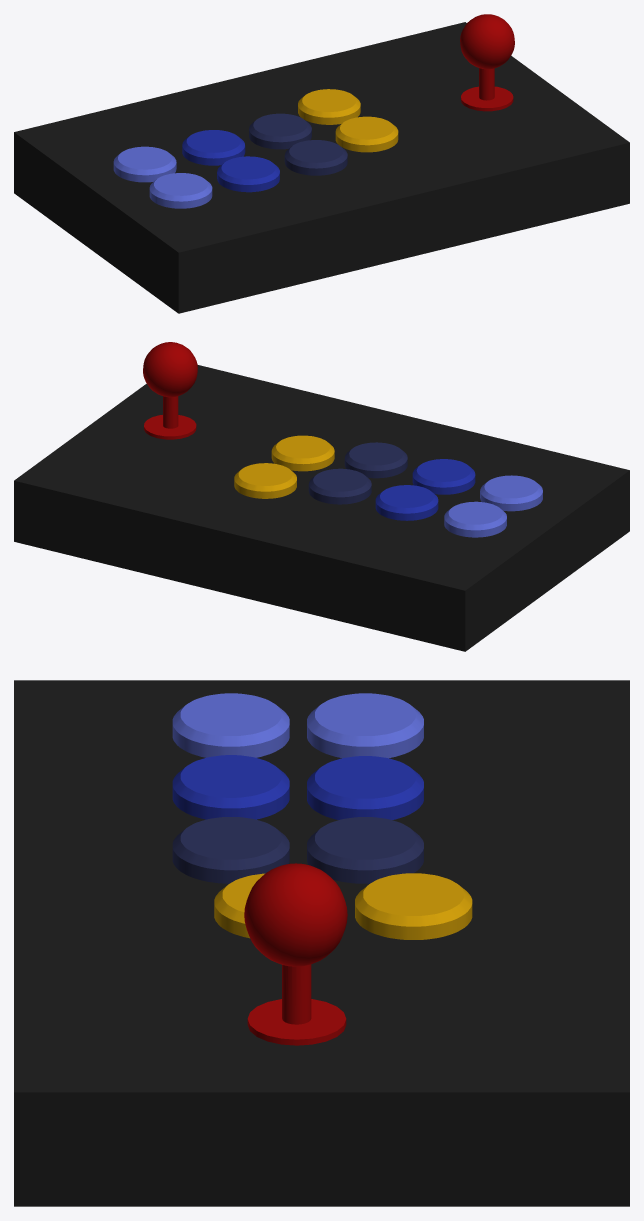
File: ArcadeFightstick.fbx
The picture shows the model from 3 angles, top to bottom: view 1: azimuth 30°, elevation 25°; view 2: azimuth 150°, elevation 25°; view 3: azimuth 270°, elevation 25°; orthographic projection. The views are drawn at different scales.
Visible parts, largest first — view 1: Button9; view 2: Button9; view 3: Button9.
Boxes of the visible parts, box(x1,y1,x2,y2) form: Button9: box(14, 14, 629, 313); Button9: box(14, 342, 629, 651); Button9: box(14, 680, 629, 1206).
Bounding box in the file's own units: 4.27 × 1.34 × 2.7.
